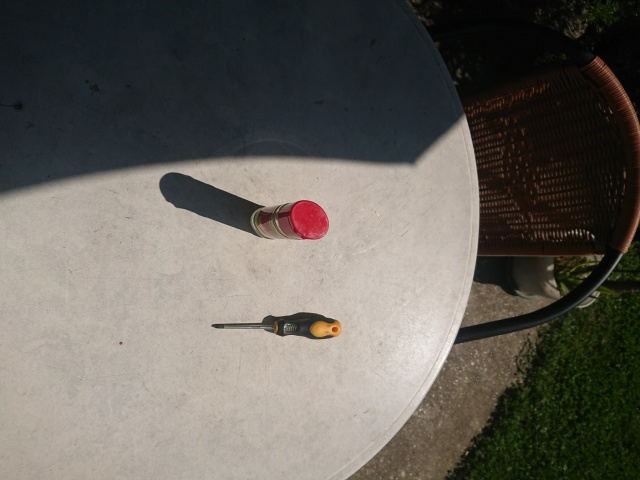Kotanyi Curry Spices Mix 70g: (249, 198, 332, 242)
